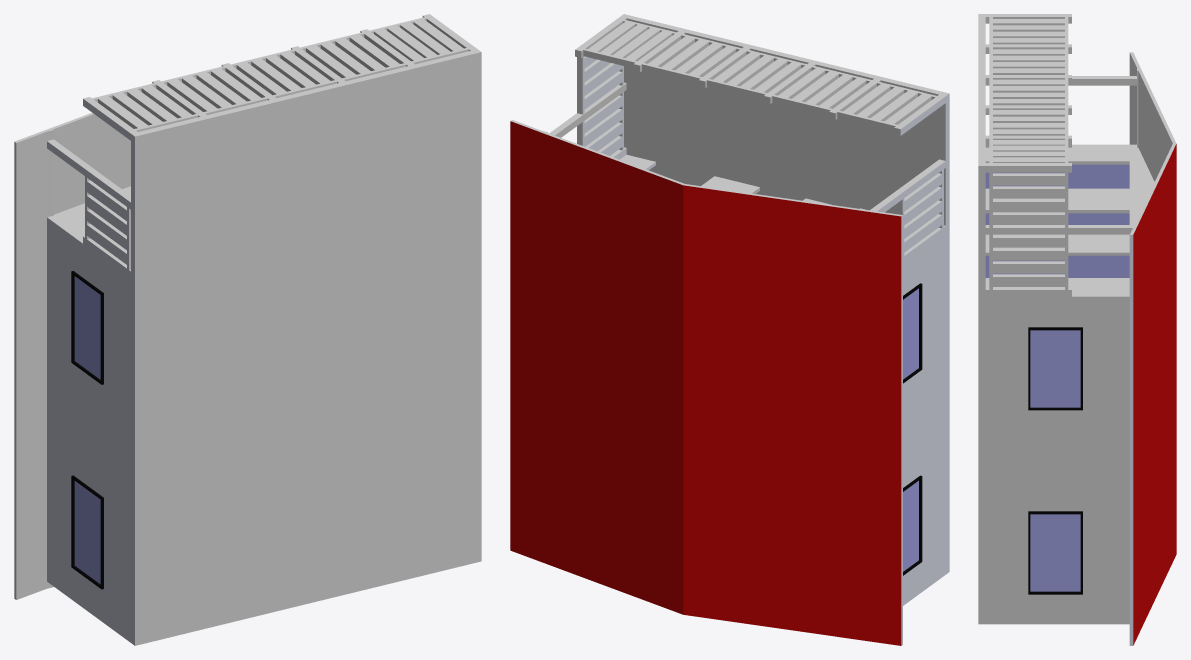
The model's file is glamping_sator_polidor.glb.
The picture shows the model from 3 angles, left to right: view 1: azimuth 30°, elevation 25°; view 2: azimuth 150°, elevation 25°; view 3: azimuth 270°, elevation 25°; orthographic projection. The views are drawn at different scales.
Visible parts, largest first — view 1: 3DGeom-341, 3DGeom-339, 3DGeom-342, 3DGeom-338; view 2: 3DGeom-343, 3DGeom-341, 3DGeom-339, 3DGeom-342, 3DGeom-338; view 3: 3DGeom-341, 3DGeom-343, 3DGeom-342, 3DGeom-339, 3DGeom-338.
Boxes of the visible parts, left/top/right/bottom form: 3DGeom-341: left=14, top=14, right=481, bottom=645; 3DGeom-339: left=14, top=99, right=134, bottom=645; 3DGeom-342: left=74, top=276, right=100, bottom=584; 3DGeom-338: left=71, top=271, right=103, bottom=589; 3DGeom-343: left=510, top=121, right=901, bottom=645; 3DGeom-341: left=510, top=14, right=949, bottom=255; 3DGeom-339: left=582, top=56, right=949, bottom=645; 3DGeom-342: left=903, top=288, right=918, bottom=571; 3DGeom-338: left=903, top=283, right=922, bottom=575; 3DGeom-341: left=978, top=14, right=1176, bottom=624; 3DGeom-343: left=1133, top=144, right=1176, bottom=645; 3DGeom-342: left=985, top=164, right=1129, bottom=591; 3DGeom-339: left=1129, top=235, right=1133, bottom=645; 3DGeom-338: left=1028, top=327, right=1082, bottom=594.
Size of the model in its own units: 0.006 by 0.00712 by 0.00275.
